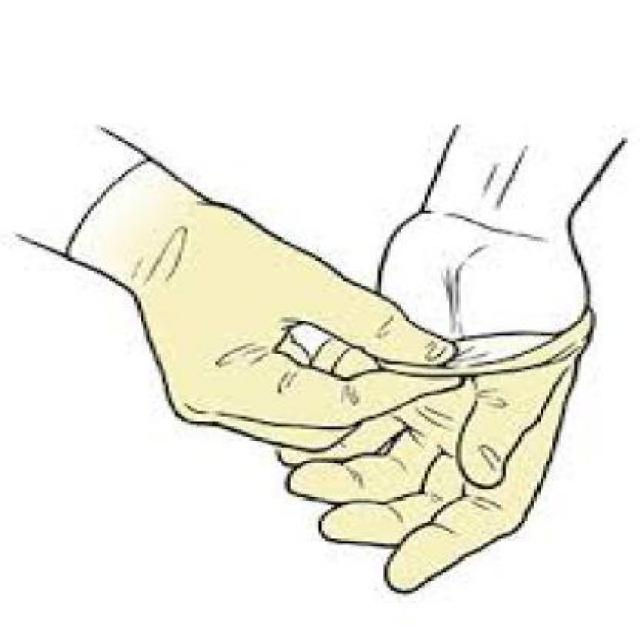B3: (66, 156, 472, 453), (256, 304, 599, 596)
